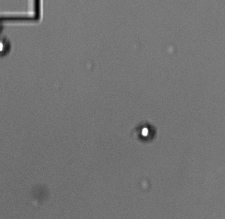Living Cell: (137, 123, 157, 142), (1, 35, 11, 60)
